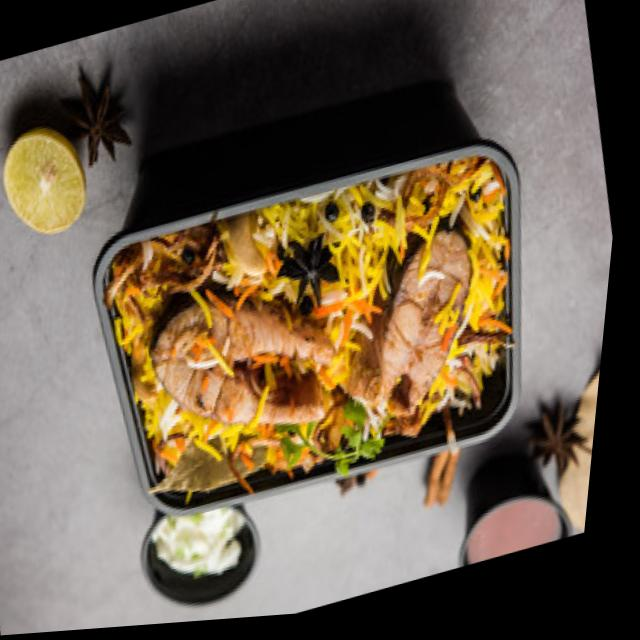BIRIYANI: (97, 141, 518, 502)
